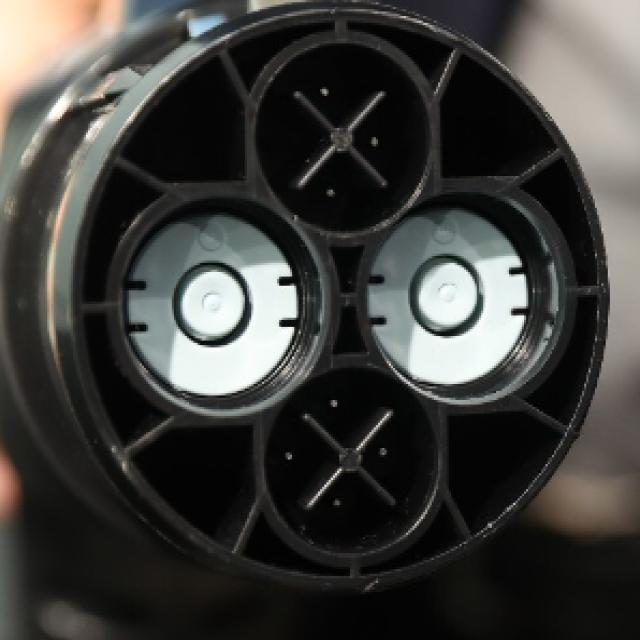CHAdeMO: (39, 16, 618, 616)
